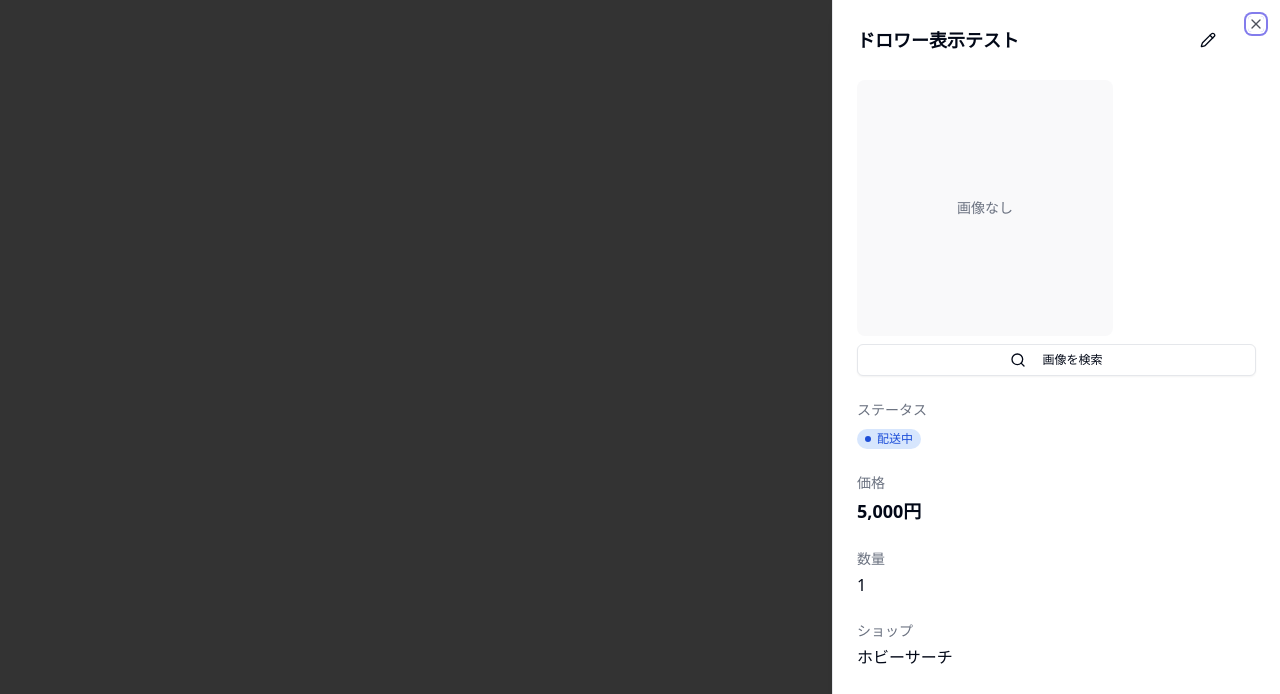
OrderItemDrawer › handleSave - Edit Mode › exits edit mode when drawer is closed
// 編集モードに入る
Click the button titled "編集" at [1208, 40], box [1192,24,1224,56]
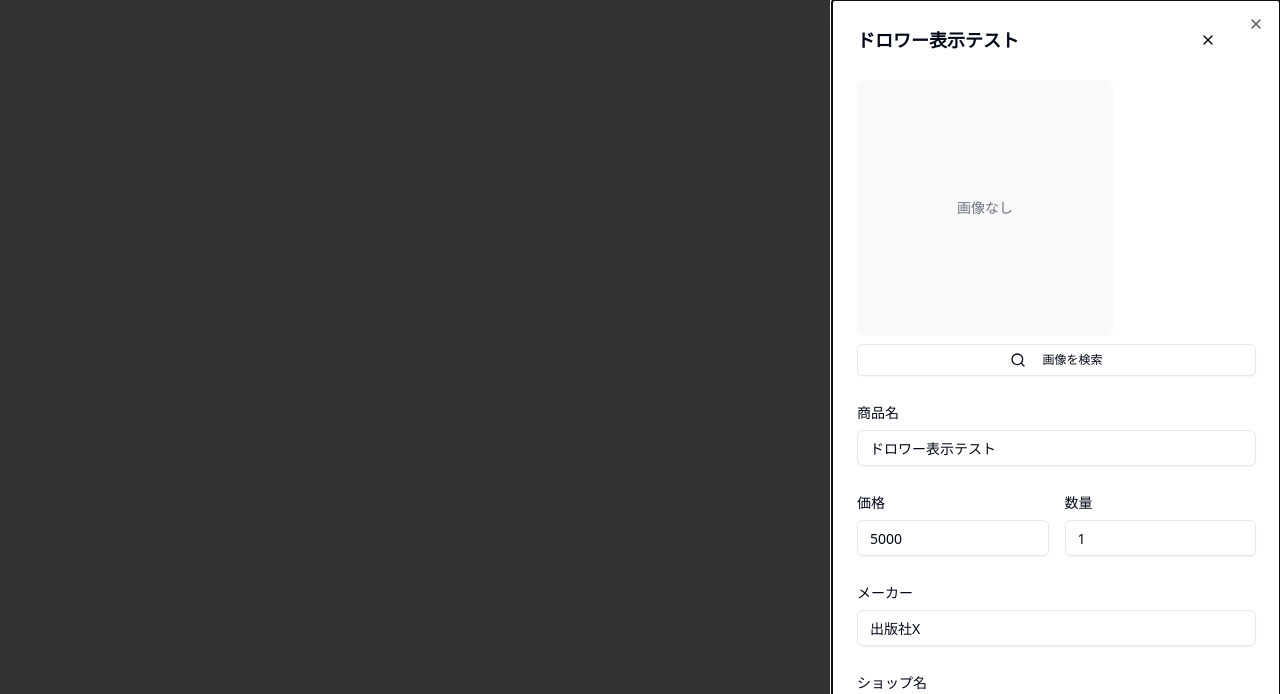
Now the field labelled "商品名" is shown, box [857,430,1256,466]
